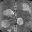people: (3, 8, 15, 18), (1, 19, 12, 28), (16, 17, 23, 26)
